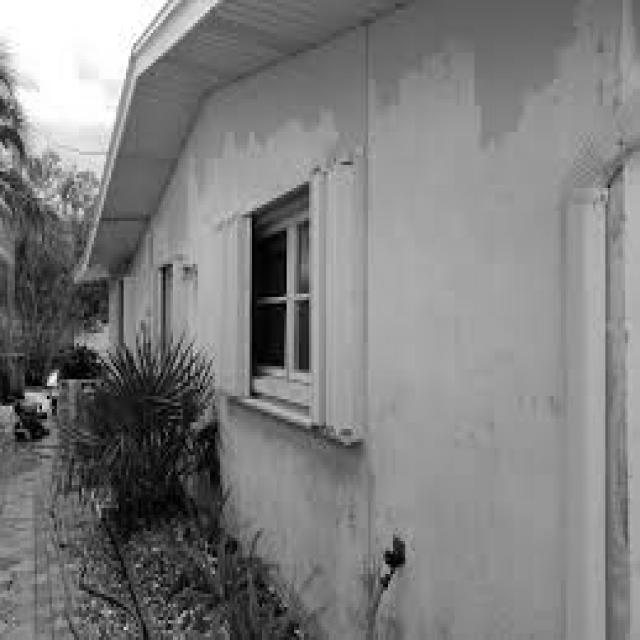peeling paint: (123, 0, 640, 640)
